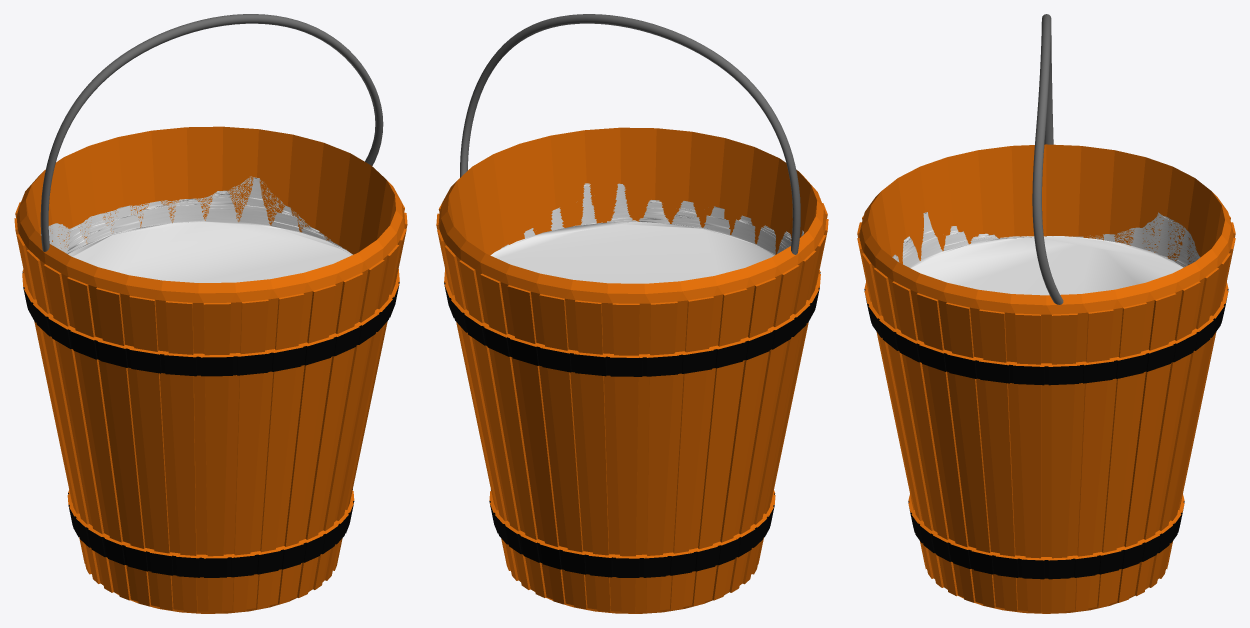
File: Water bucket 1.fbx
3 renders of one model, left to right at view 1: azimuth 30°, elevation 25°; view 2: azimuth 150°, elevation 25°; view 3: azimuth 270°, elevation 25°, orthographic. The views are drawn at different scales.
Parts seen in each view (by area): view 1: Cylinder, Plane, NurbsCurve; view 2: Cylinder, Plane, NurbsCurve; view 3: Cylinder, Plane, NurbsCurve.
Boxes of the visible parts, x1,y1,x2,y2 form: Cylinder: (14, 126, 407, 613); Plane: (41, 176, 352, 282); NurbsCurve: (40, 14, 383, 251); Cylinder: (436, 127, 828, 613); Plane: (490, 183, 803, 283); NurbsCurve: (460, 14, 800, 254); Cylinder: (857, 144, 1235, 613); Plane: (892, 212, 1200, 295); NurbsCurve: (1032, 14, 1063, 304).
Size of the model in its own units: 198 by 304 by 198.
